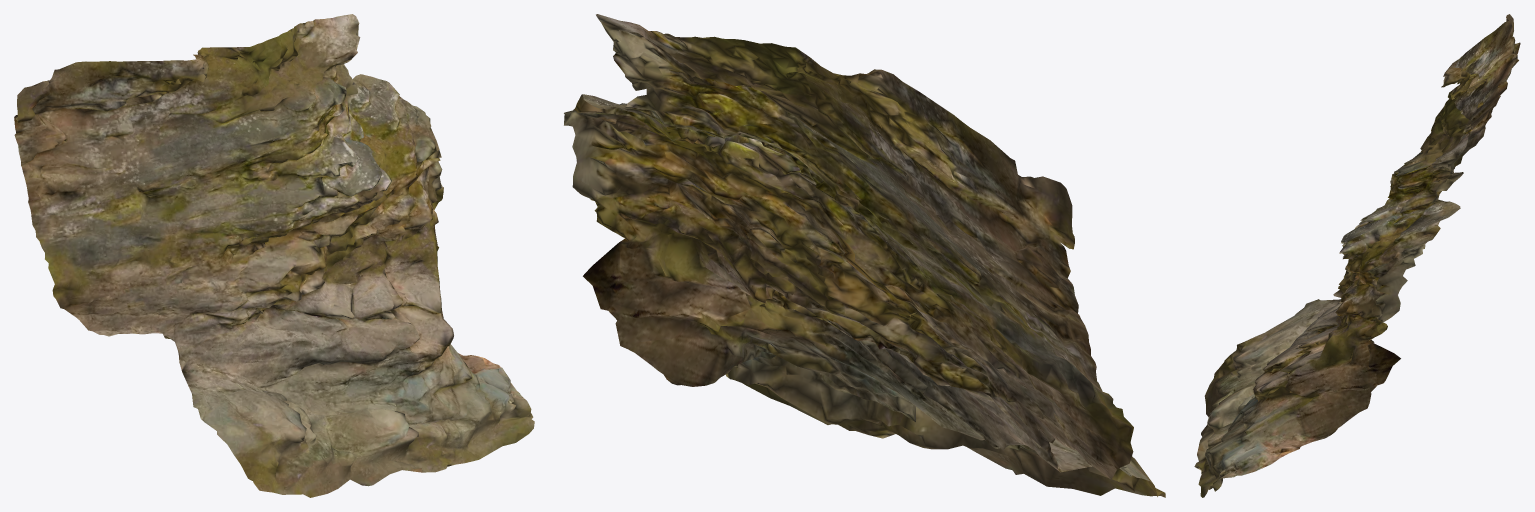
File: rock_face_02.glb
3 views of the same model, side by side, from view 1: azimuth 30°, elevation 25°; view 2: azimuth 150°, elevation 25°; view 3: azimuth 270°, elevation 25° (orthographic). The views are drawn at different scales.
Parts seen in each view (by area): view 1: rock_face_02; view 2: rock_face_02; view 3: rock_face_02.
Part boxes in pixels (x1,y1,x2,y2): rock_face_02: (14, 14, 534, 497); rock_face_02: (564, 14, 1165, 497); rock_face_02: (1194, 14, 1520, 497).
Bounding box in the file's own units: 2.71 × 2.47 × 2.13.
1 material, 1 textured.
